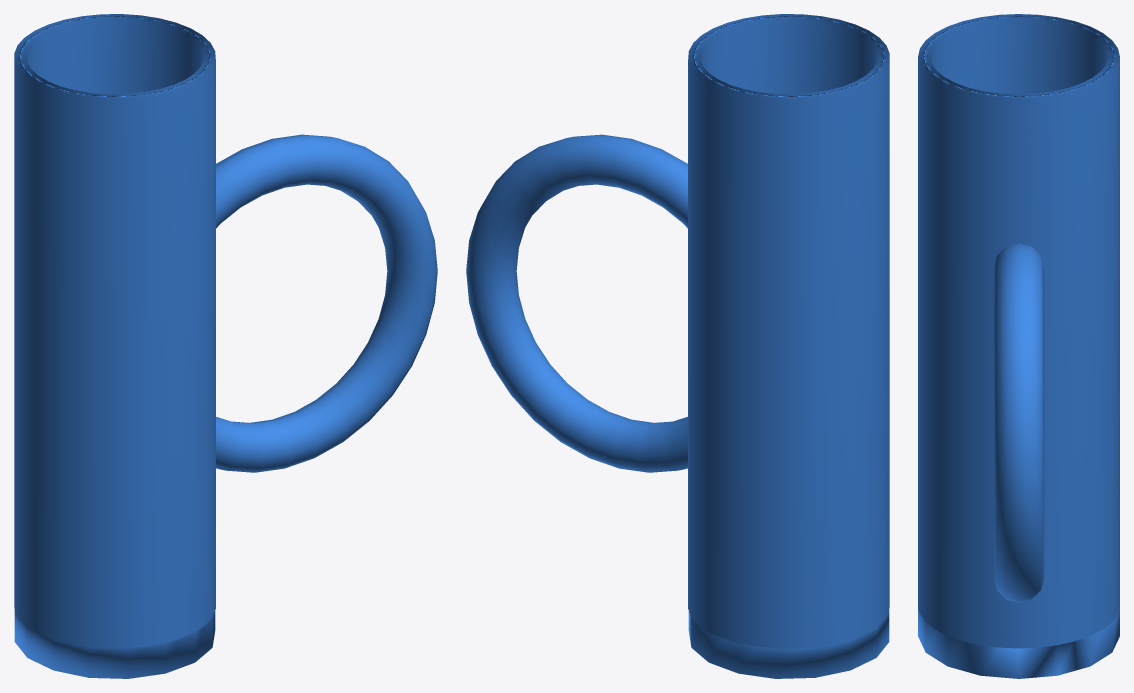
3 renders of one model, left to right at view 1: azimuth 30°, elevation 25°; view 2: azimuth 150°, elevation 25°; view 3: azimuth 270°, elevation 25°, orthographic.
Visible parts, largest first — view 1: body, handle, bottom; view 2: body, handle, bottom; view 3: body, handle, bottom.
Part boxes in pixels (<box>): body: <box>14,14,215,648</box>; handle: <box>216,134,437,472</box>; bottom: <box>14,611,215,678</box>; body: <box>688,14,889,648</box>; handle: <box>466,134,687,472</box>; bottom: <box>688,611,889,678</box>; body: <box>918,14,1119,648</box>; handle: <box>993,243,1044,602</box>; bottom: <box>918,606,1119,678</box>.
Bounding box in the file's own units: 1.4 × 1.9 × 0.6.
